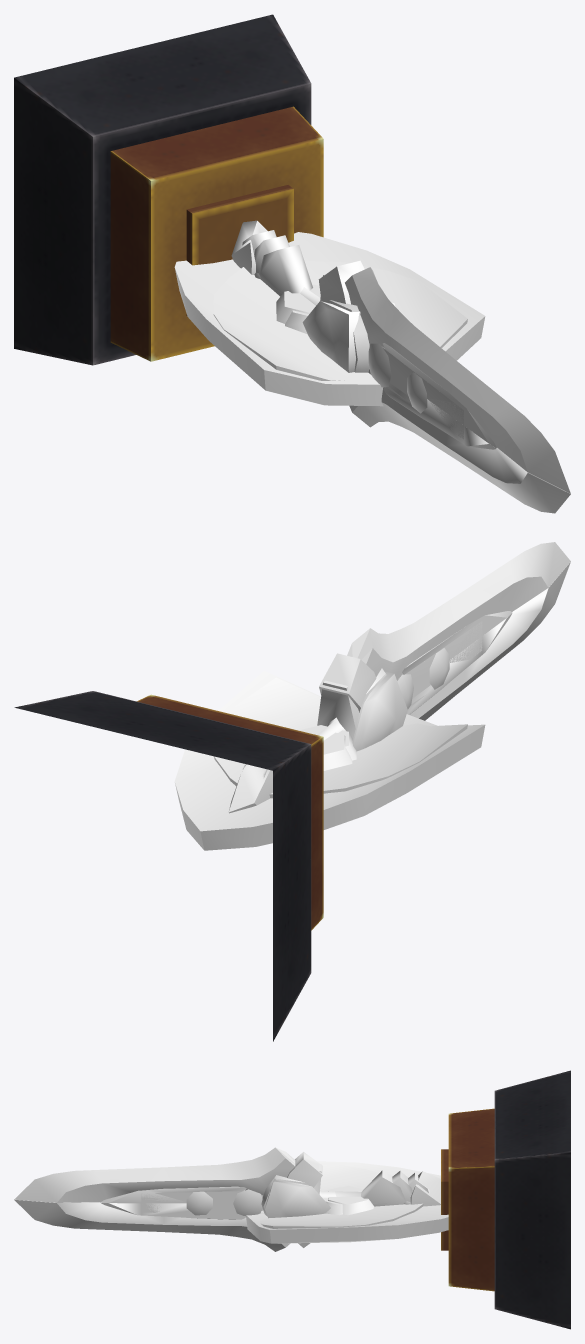
File: battlestand_rank1.glb
3 views of the same model, one above another, from view 1: azimuth 30°, elevation 25°; view 2: azimuth 150°, elevation 25°; view 3: azimuth 270°, elevation 25° (orthographic). The views are drawn at different scales.
Visible parts, largest first — view 1: battle_stand.battlestand_rank1-MeshNodes["trophy_jellyking_t (×2), calibur.modelset_honor-MeshSets[model_r4].Mesh[0], aegis.modelset_honor-MeshSets[mesh_aegis-lrg].Mesh[0], aegis.modelset_honor-MeshSets[mesh_aegis].Mesh[0], calibur.modelset_honor-MeshSets[model_r3].Mesh[0], calibur.modelset_honor-MeshSets[model_r2].Mesh[0], calibur.modelset_honor-MeshSets[model_r1].Mesh[0]; view 2: battle_stand.battlestand_rank1-MeshNodes["trophy_jellyking_t, calibur.modelset_honor-MeshSets[model_r4].Mesh[0], aegis.modelset_honor-MeshSets[mesh_aegis-lrg].Mesh[0], aegis.modelset_honor-MeshSets[mesh_aegis].Mesh[0], calibur.modelset_honor-MeshSets[model_r3].Mesh[0], calibur.modelset_honor-MeshSets[model_r2].Mesh[0]; view 3: battle_stand.battlestand_rank1-MeshNodes["trophy_jellyking_t (×2), calibur.modelset_honor-MeshSets[model_r4].Mesh[0], calibur.modelset_honor-MeshSets[model_r3].Mesh[0], aegis.modelset_honor-MeshSets[mesh_aegis-lrg].Mesh[0], aegis.modelset_honor-MeshSets[mesh_aegis].Mesh[0], calibur.modelset_honor-MeshSets[model_r2].Mesh[0], calibur.modelset_honor-MeshSets[model_r1].Mesh[0].
Part boxes in pixels (x1,y1,x2,y2): battle_stand.battlestand_rank1-MeshNodes["trophy_jellyking_t (×2): (14, 14, 323, 365); calibur.modelset_honor-MeshSets[model_r4].Mesh[0]: (231, 220, 570, 513); aegis.modelset_honor-MeshSets[mesh_aegis-lrg].Mesh[0]: (174, 232, 485, 406); aegis.modelset_honor-MeshSets[mesh_aegis].Mesh[0]: (213, 260, 467, 380); calibur.modelset_honor-MeshSets[model_r3].Mesh[0]: (242, 230, 496, 449); calibur.modelset_honor-MeshSets[model_r2].Mesh[0]: (254, 235, 463, 439); calibur.modelset_honor-MeshSets[model_r1].Mesh[0]: (259, 245, 312, 296); battle_stand.battlestand_rank1-MeshNodes["trophy_jellyking_t: (14, 691, 323, 1041); calibur.modelset_honor-MeshSets[model_r4].Mesh[0]: (228, 542, 570, 813); aegis.modelset_honor-MeshSets[mesh_aegis-lrg].Mesh[0]: (174, 670, 485, 850); aegis.modelset_honor-MeshSets[mesh_aegis].Mesh[0]: (214, 677, 467, 798); calibur.modelset_honor-MeshSets[model_r3].Mesh[0]: (242, 611, 512, 778); calibur.modelset_honor-MeshSets[model_r2].Mesh[0]: (397, 621, 482, 707); battle_stand.battlestand_rank1-MeshNodes["trophy_jellyking_t (×2): (441, 1070, 570, 1329); calibur.modelset_honor-MeshSets[model_r4].Mesh[0]: (14, 1147, 440, 1251); calibur.modelset_honor-MeshSets[model_r3].Mesh[0]: (100, 1164, 429, 1219); aegis.modelset_honor-MeshSets[mesh_aegis-lrg].Mesh[0]: (246, 1161, 448, 1243); aegis.modelset_honor-MeshSets[mesh_aegis].Mesh[0]: (260, 1164, 423, 1228); calibur.modelset_honor-MeshSets[model_r2].Mesh[0]: (117, 1171, 412, 1214); calibur.modelset_honor-MeshSets[model_r1].Mesh[0]: (361, 1170, 406, 1206).
Size of the model in its own units: 1.02 by 1.02 by 2.91.
6 materials, 1 textured.
